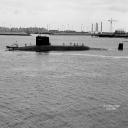submarine: (7, 35, 128, 52)
